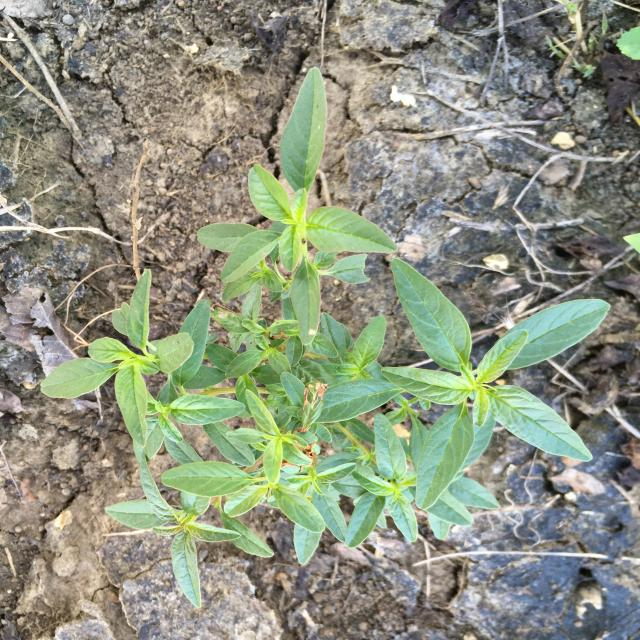Waterhemp: (40, 67, 612, 608)
